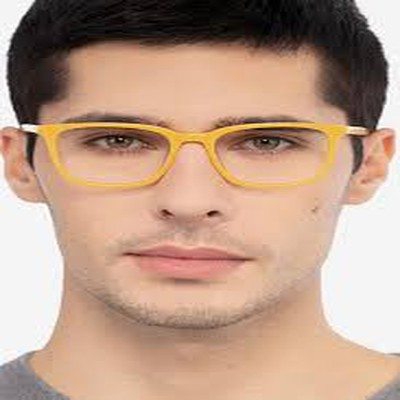eywear: (17, 81, 375, 216)
